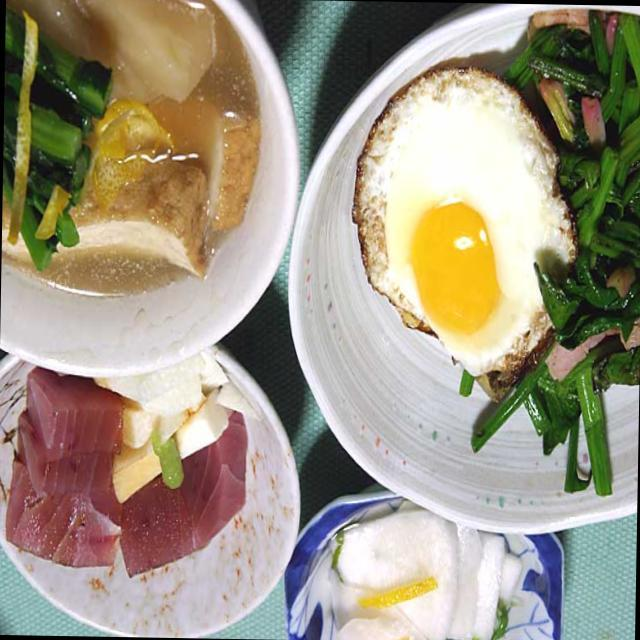Egg: (351, 73, 584, 374)
